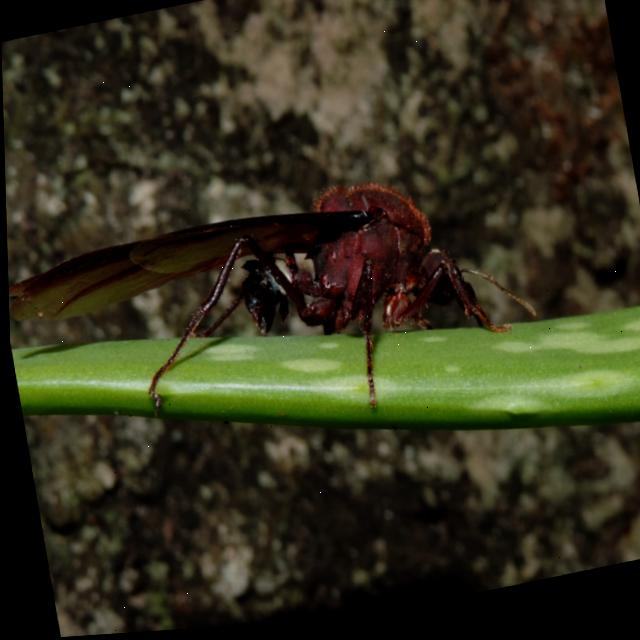Alive-Female-Alate: (4, 157, 545, 480)
